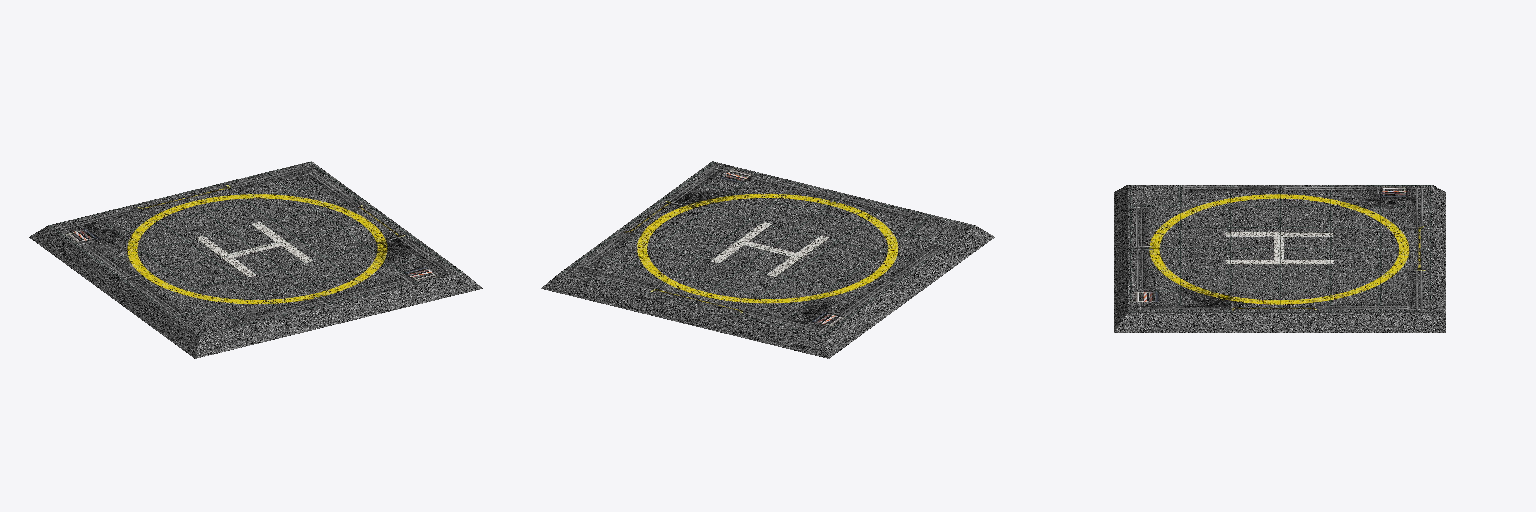
The picture shows the model from 3 angles: view 1: azimuth 30°, elevation 25°; view 2: azimuth 150°, elevation 25°; view 3: azimuth 270°, elevation 25°; orthographic projection.
Visible parts, largest first — view 1: pCube1; view 2: pCube1; view 3: pCube1.
Boxes of the visible parts, box(x1,y1,x2,y2) form: pCube1: box(29, 161, 482, 358); pCube1: box(541, 161, 994, 358); pCube1: box(1114, 185, 1445, 332).
Size of the model in its own units: 21.85 by 1 by 21.85.
2 materials, 2 textured.